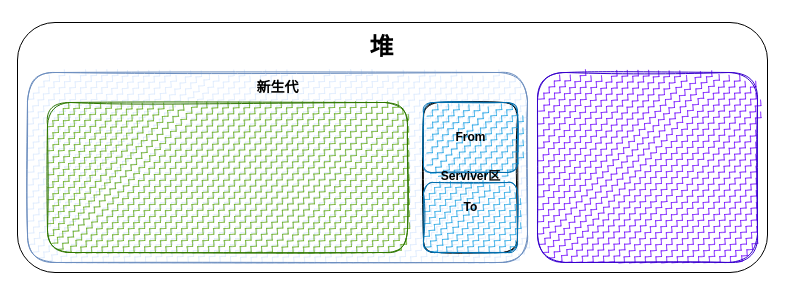
Some shapes in this 785 by 290 pixel diagram are drawn without their labels. The box of each missing label's shape, as (x1, y1, x2, y2) in pixels:
eden区: (46, 102, 408, 252)
老年代: (536, 72, 758, 262)
